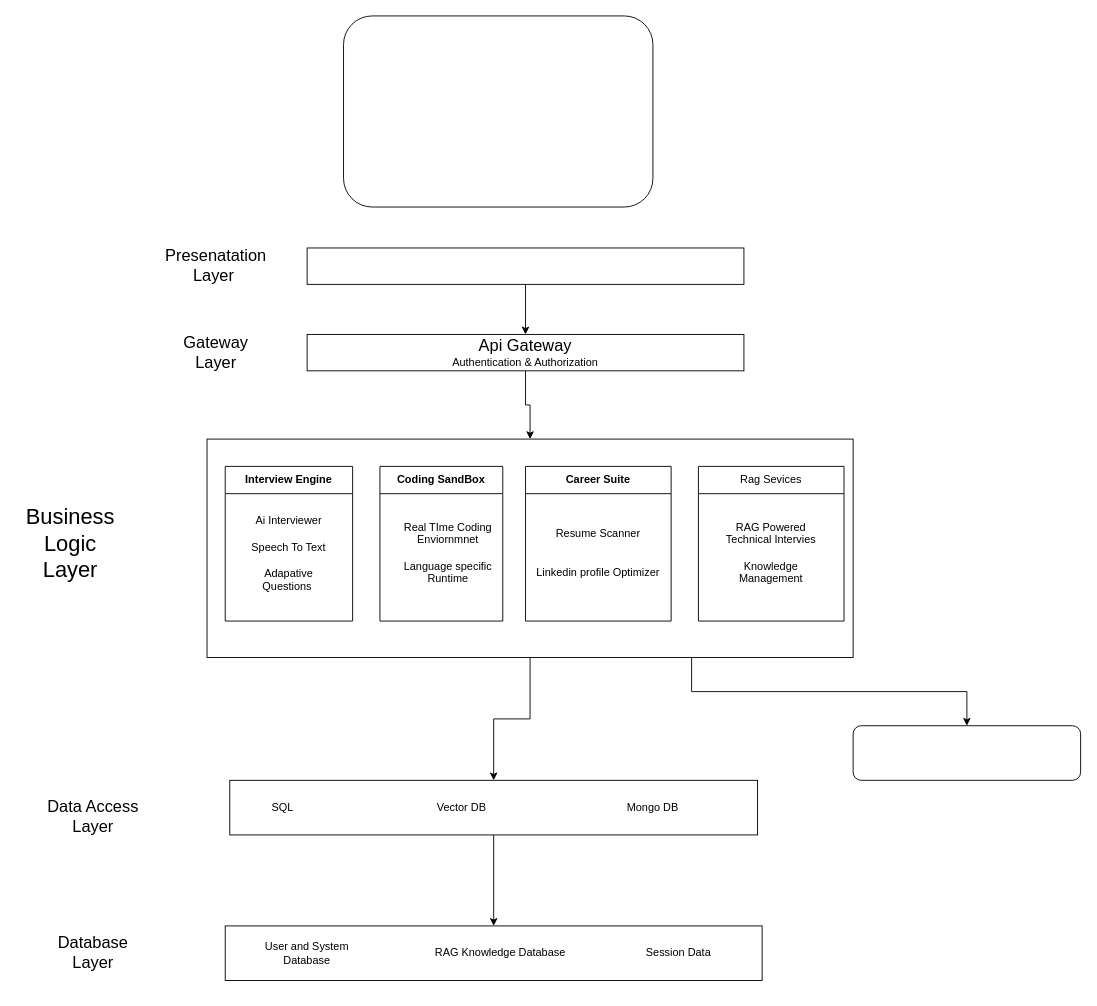
This 1097x1006 diagram has some shape labels left out. The shapes that lost their labels are listed below. From the top down, each one's centre as x and y in pixels, then its label:
At (498,111): "Architecture Overview".
At (525,265): "Client Applications(Web & Mobile Dashboard)".
At (966,752): "External API".
